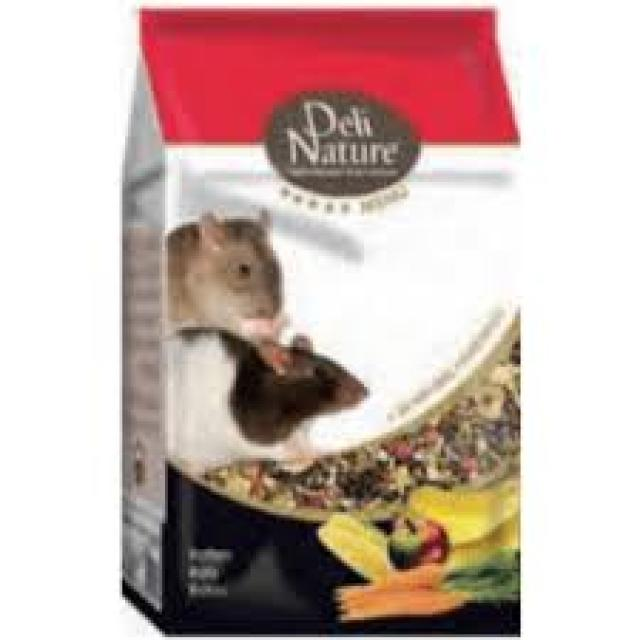rat: (171, 324, 367, 498), (162, 205, 285, 333)
